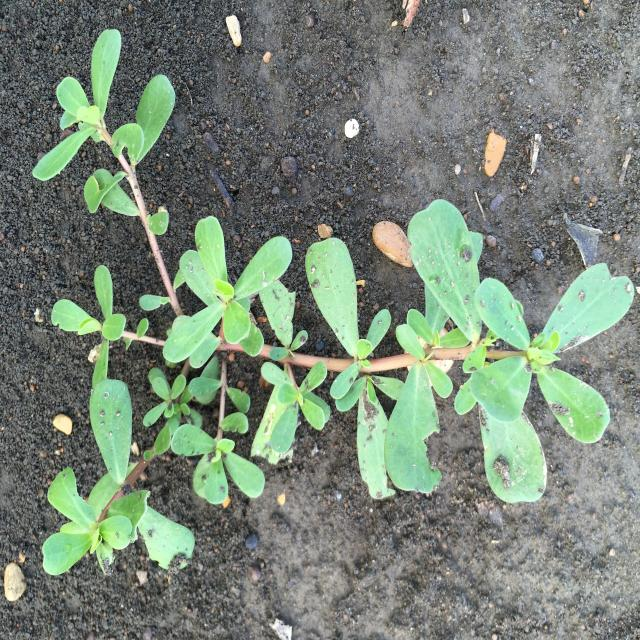Purslane: (32, 28, 634, 576)
